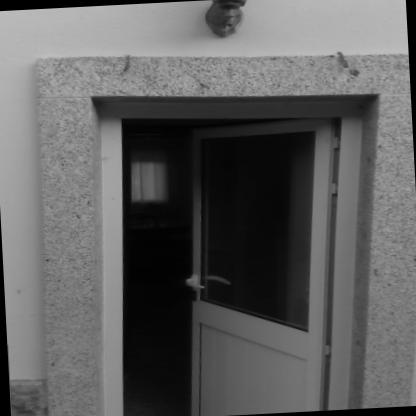semi: (94, 73, 374, 416)
